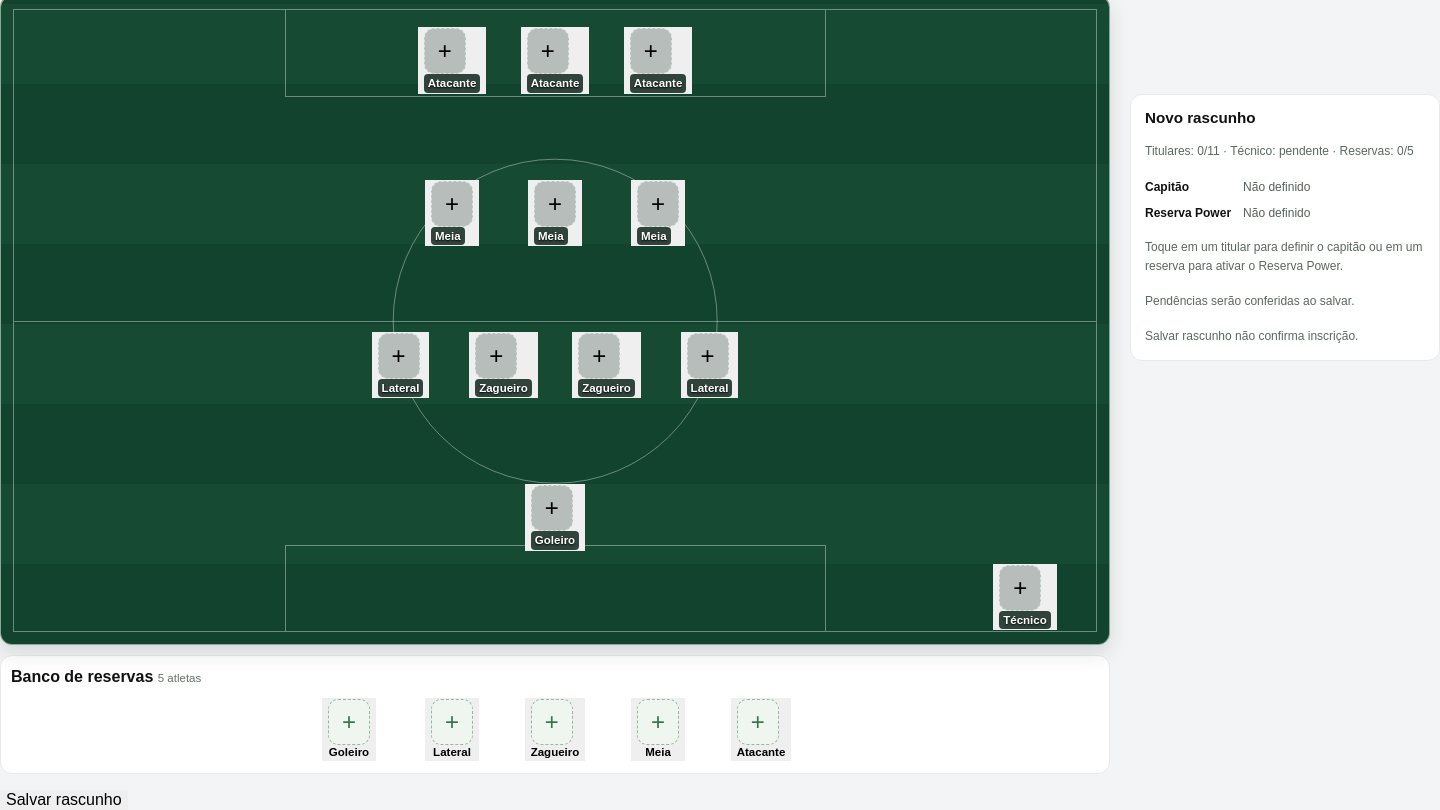
Scenario: Server public identity › sends Tropa do Mago and an idempotency key with the complete selection
This screenshot has width=1440, height=810.
(page scrolled)
Click the button "Salvar rascunho" at (64, 800), box [0,790,128,809]
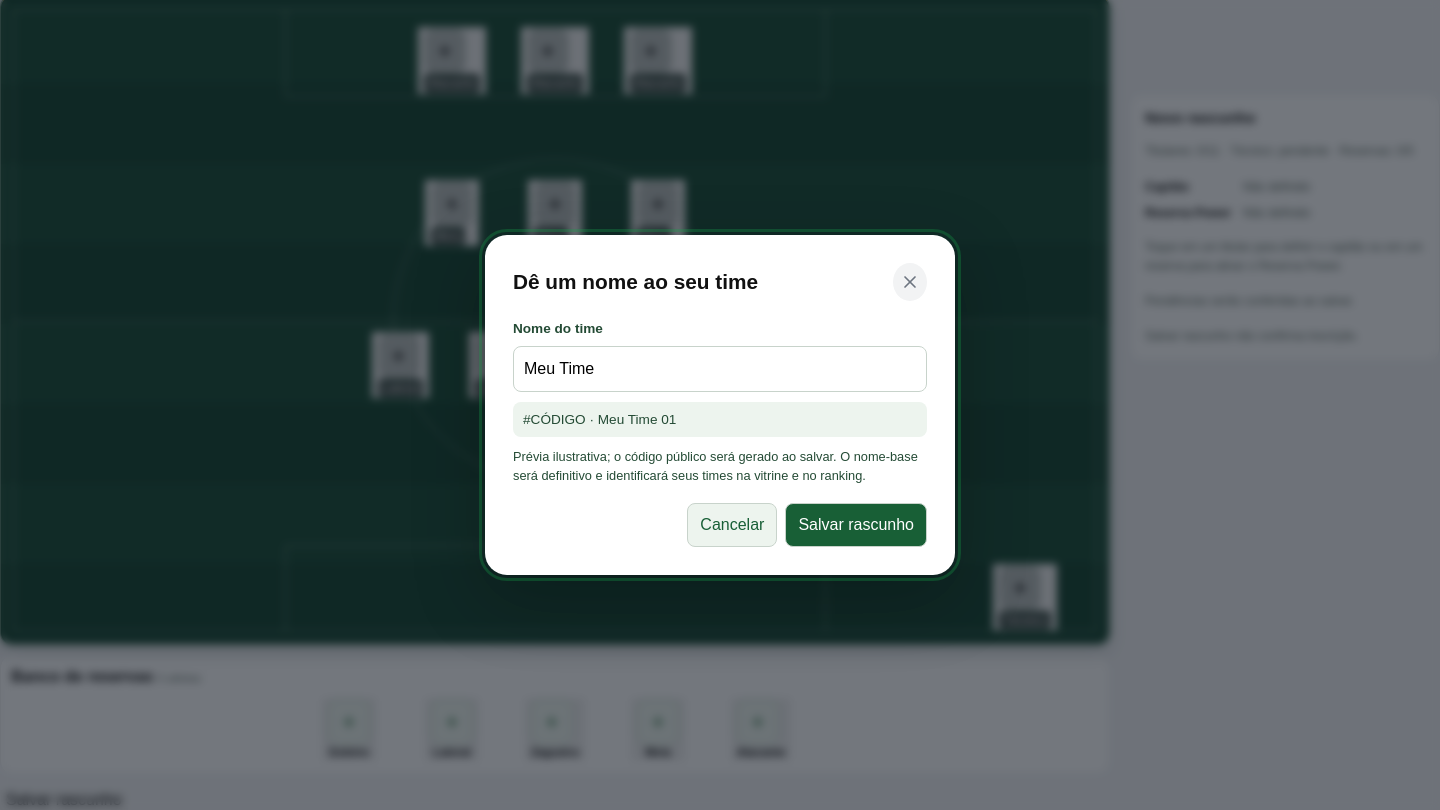
Replace the text in the field with "Tropa do Mago" at (720, 369), box [513,346,927,392]
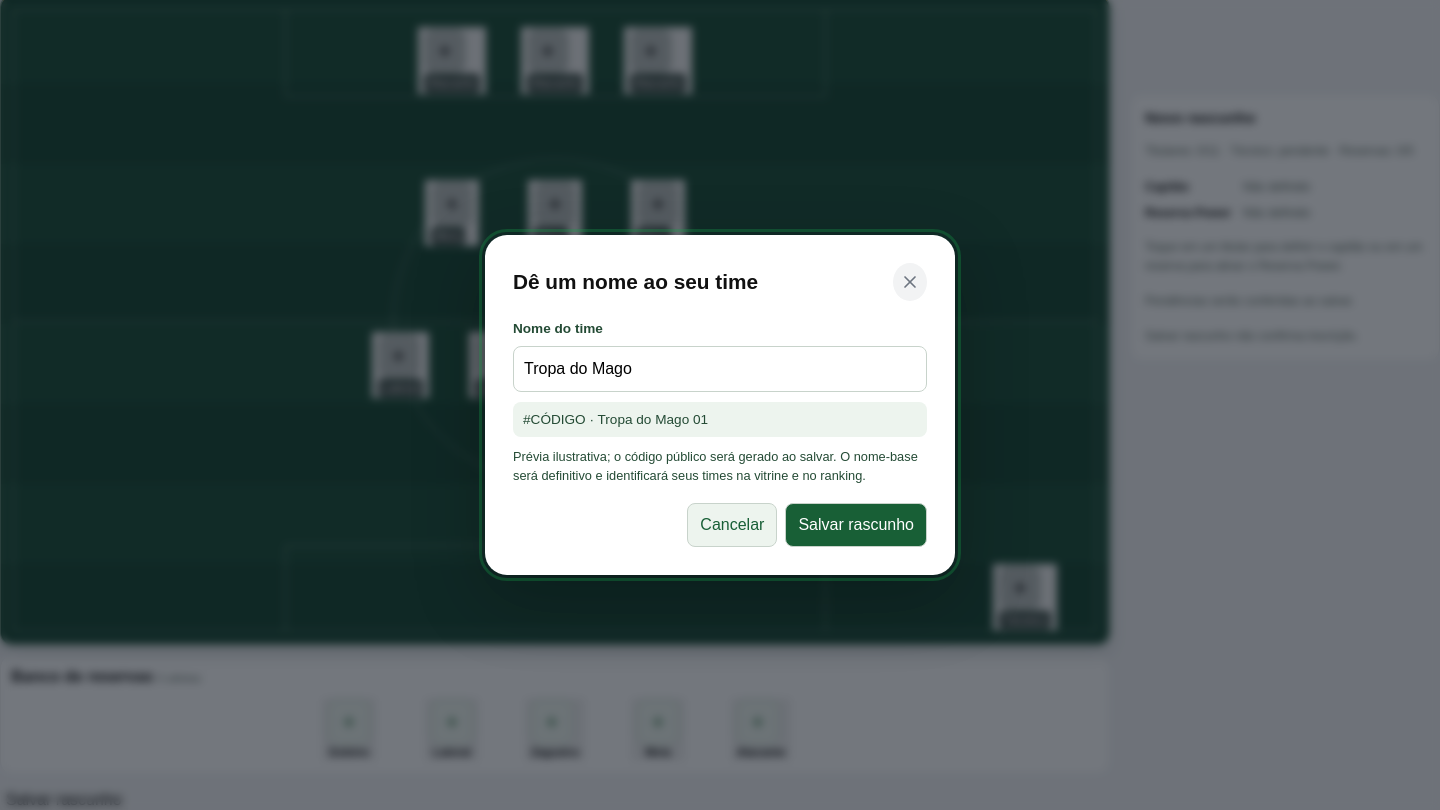
Click the button "Salvar rascunho" at (856, 525), box [785,503,927,547]
(page scrolled)
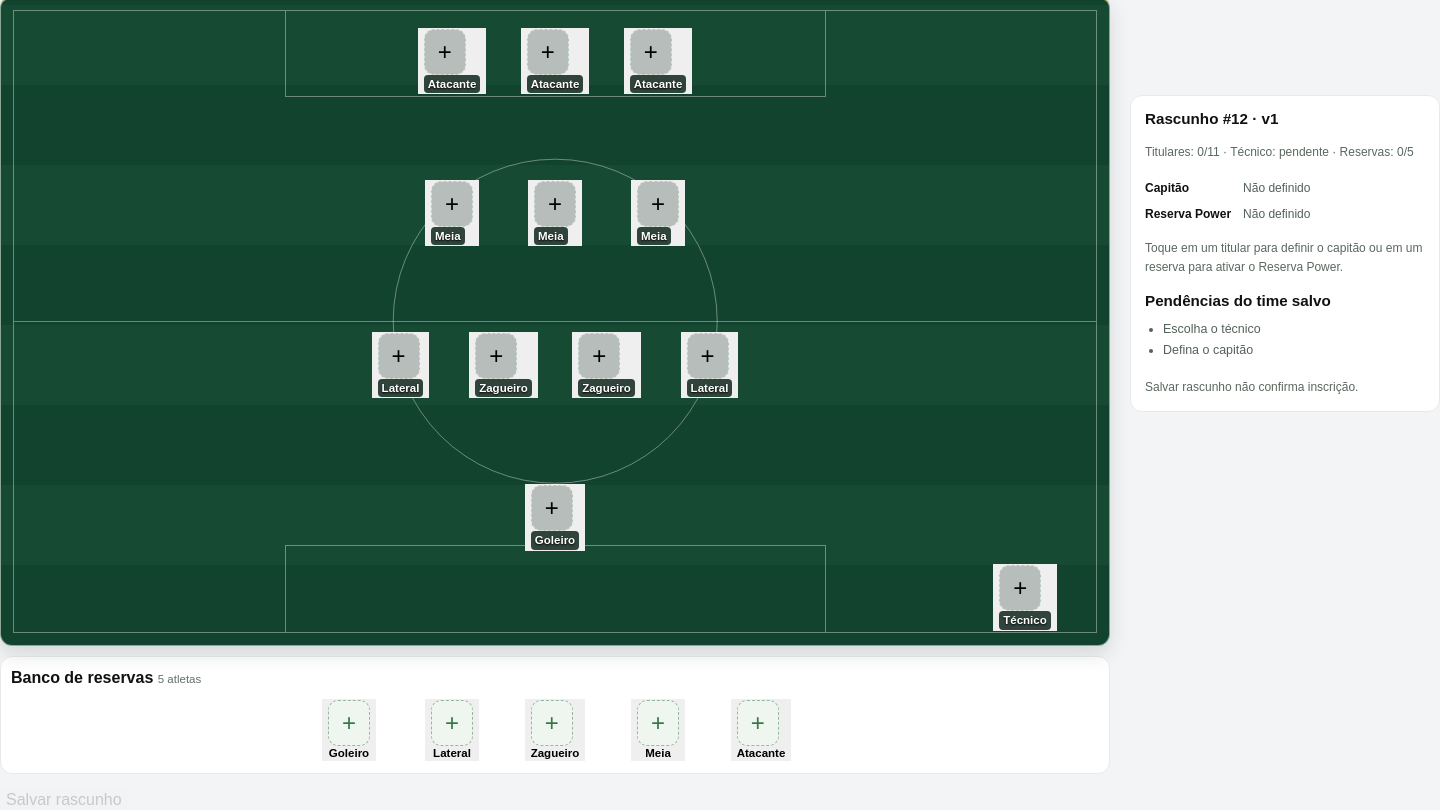
Check: the dialog is gone
